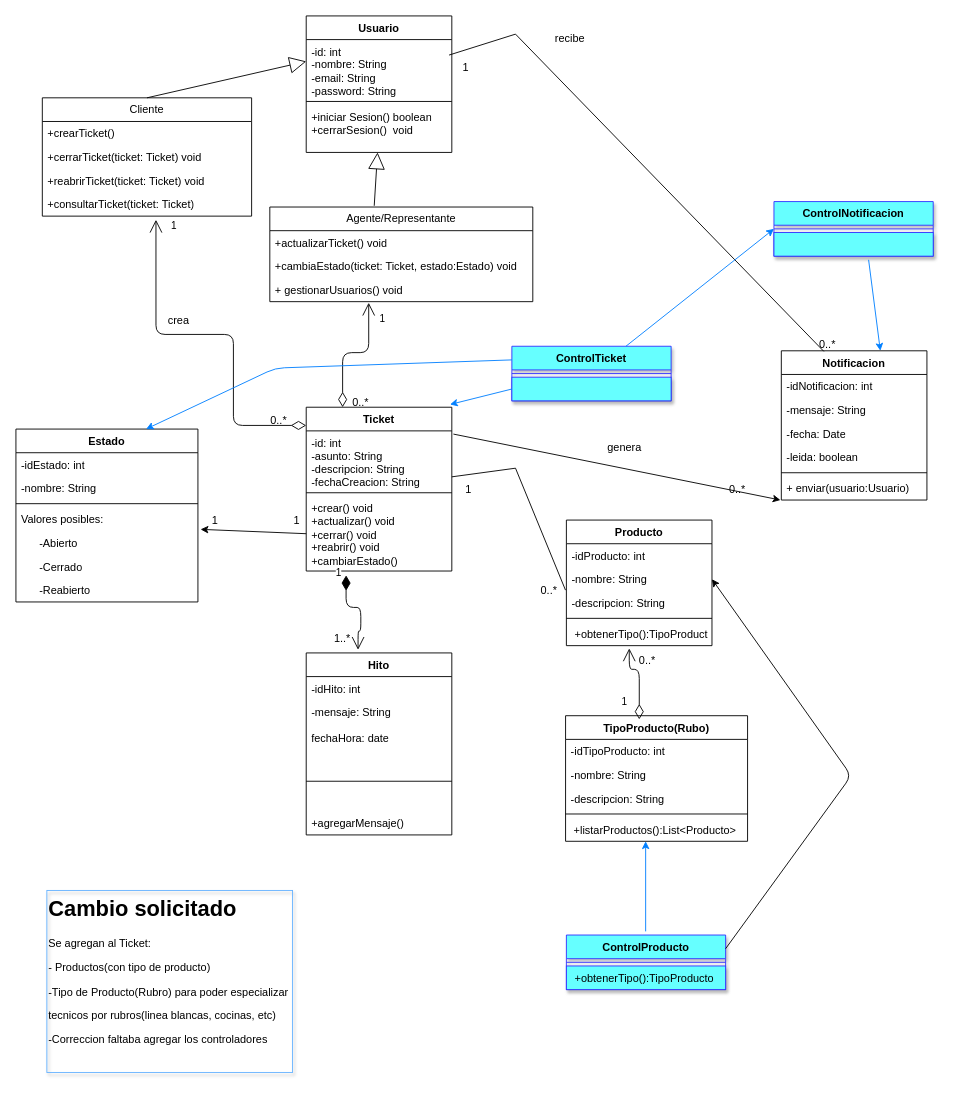
Image size: 955x1095. Some labels were removed from this diagram. Each missing label, with the centre of its shape:
"+cambiarEstado()" belongs at pixel 592 390.
"+generarNotificacion()" belongs at pixel 854 245.
